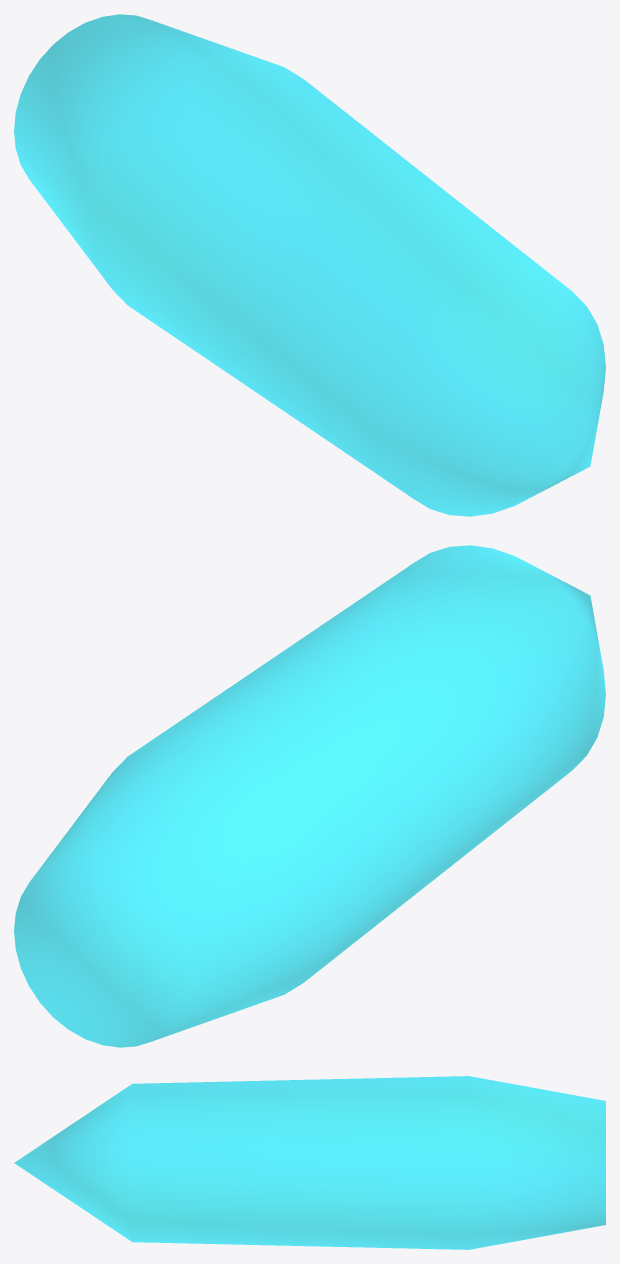
Rendered from GunBullet.fbx.
The picture shows the model from 3 angles, top to bottom: view 1: azimuth 30°, elevation 25°; view 2: azimuth 150°, elevation 25°; view 3: azimuth 270°, elevation 25°; orthographic projection. The views are drawn at different scales.
Parts seen in each view (by area): view 1: Cone; view 2: Cone; view 3: Cone.
Boxes of the visible parts, <box> form: Cone: <box>14,14,605,516</box>; Cone: <box>14,545,605,1047</box>; Cone: <box>14,1076,605,1249</box>.
Size of the model in its own units: 17.36 by 17.36 by 59.04.
